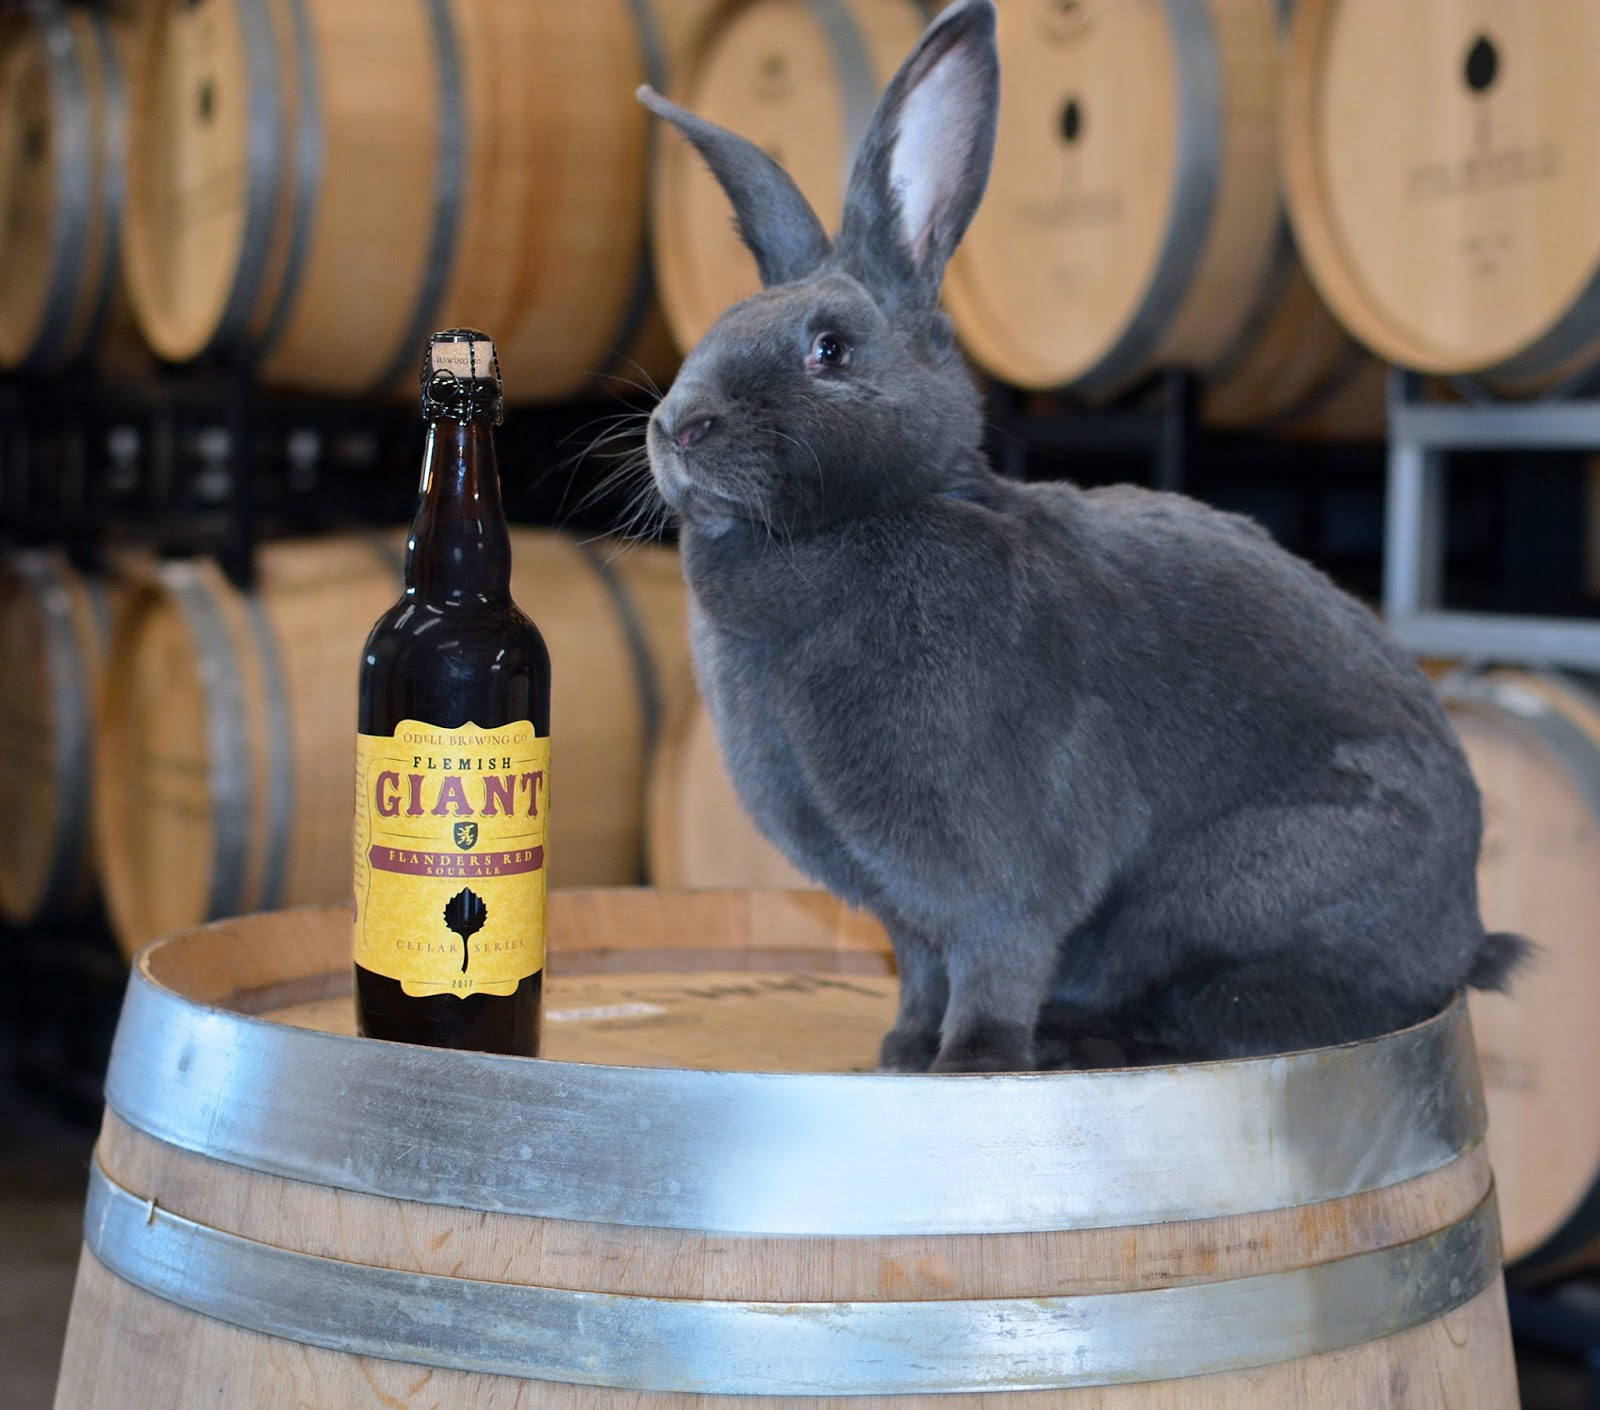bunny: (584, 1, 1563, 1128)
